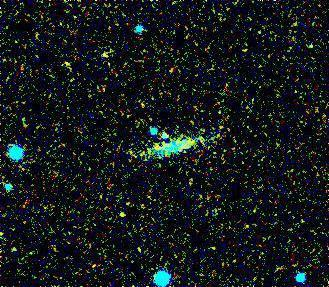star: (109, 199, 139, 229)
